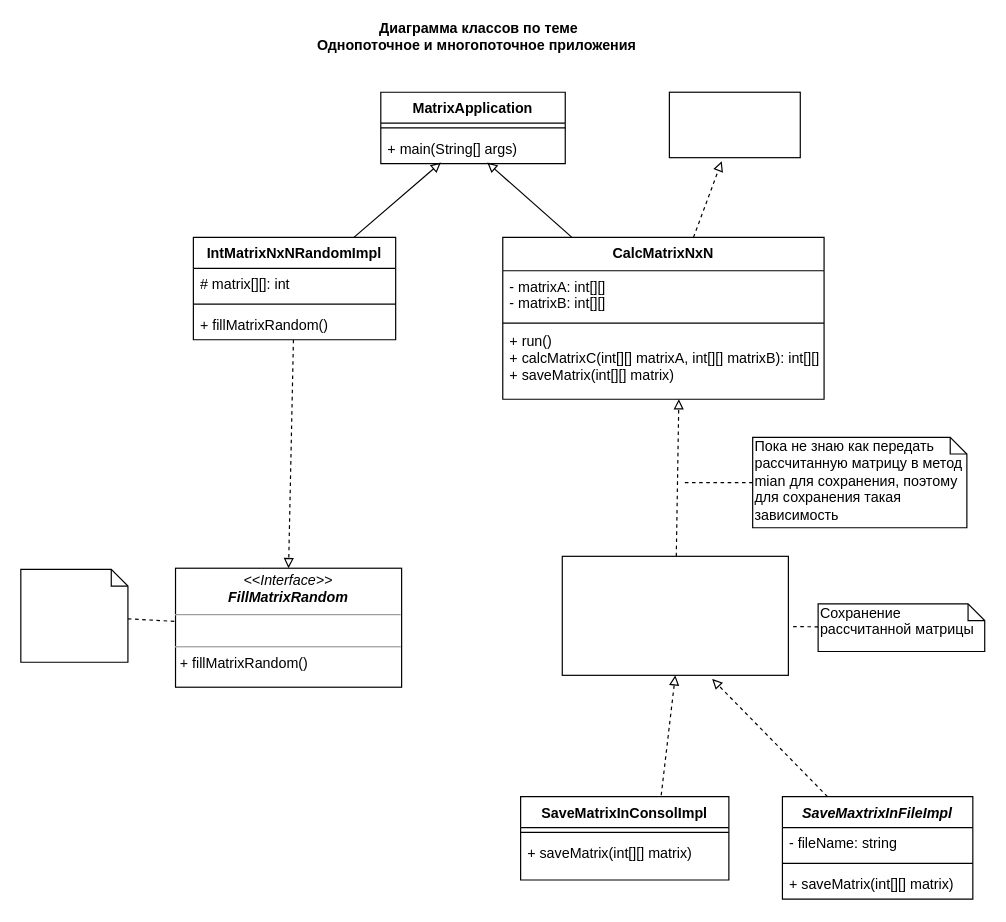
Some shapes in this 1006 by 922 pixel diagram are drawn without their labels. Each missing label, with the centre of its shape:
"<<Interface>> SaveMatrix + saveMatrix(int[][] matrix)" goes at point (674, 615).
"«interface» Runnable" goes at point (734, 124).
"Заполнение матрицы случайными числами" goes at point (74, 615).
